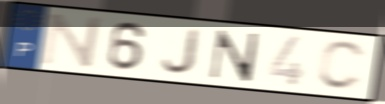4: (267, 34, 307, 89)
6: (106, 20, 149, 73)
C: (315, 39, 369, 93)
J: (159, 27, 205, 76)
N: (40, 12, 107, 69), (207, 28, 263, 84)
